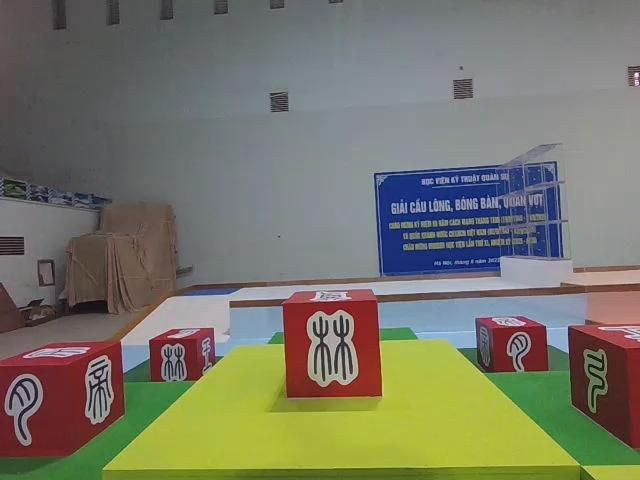R2 Fake: (0, 337, 127, 460), (282, 286, 386, 400), (565, 320, 640, 454), (474, 313, 550, 377), (147, 325, 217, 385)
